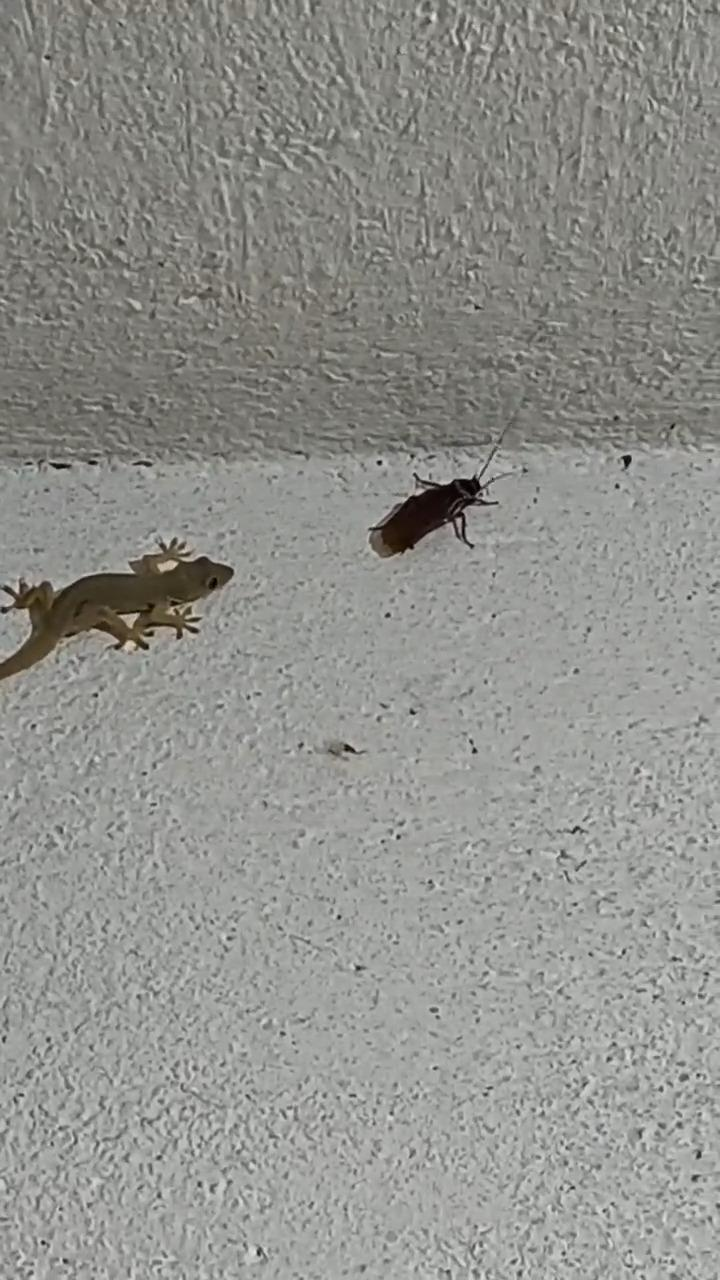cockroach: (346, 448, 551, 576)
lizard: (0, 520, 257, 694)
